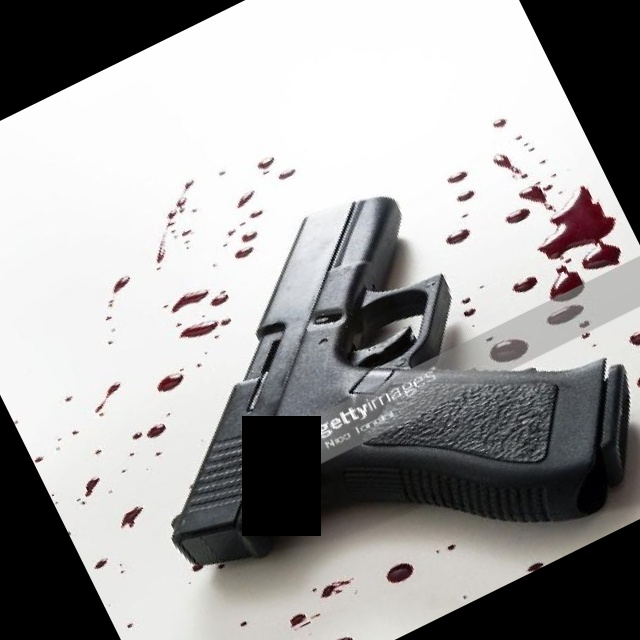gun: (68, 116, 640, 640)
